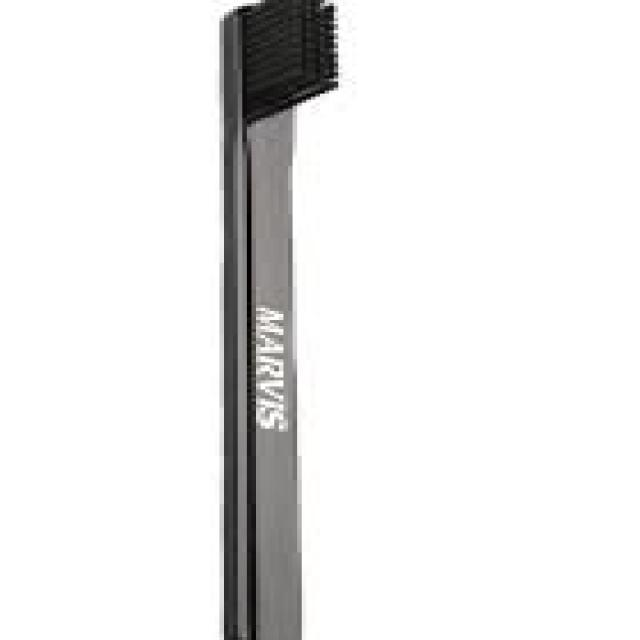organic: (204, 5, 330, 616)
